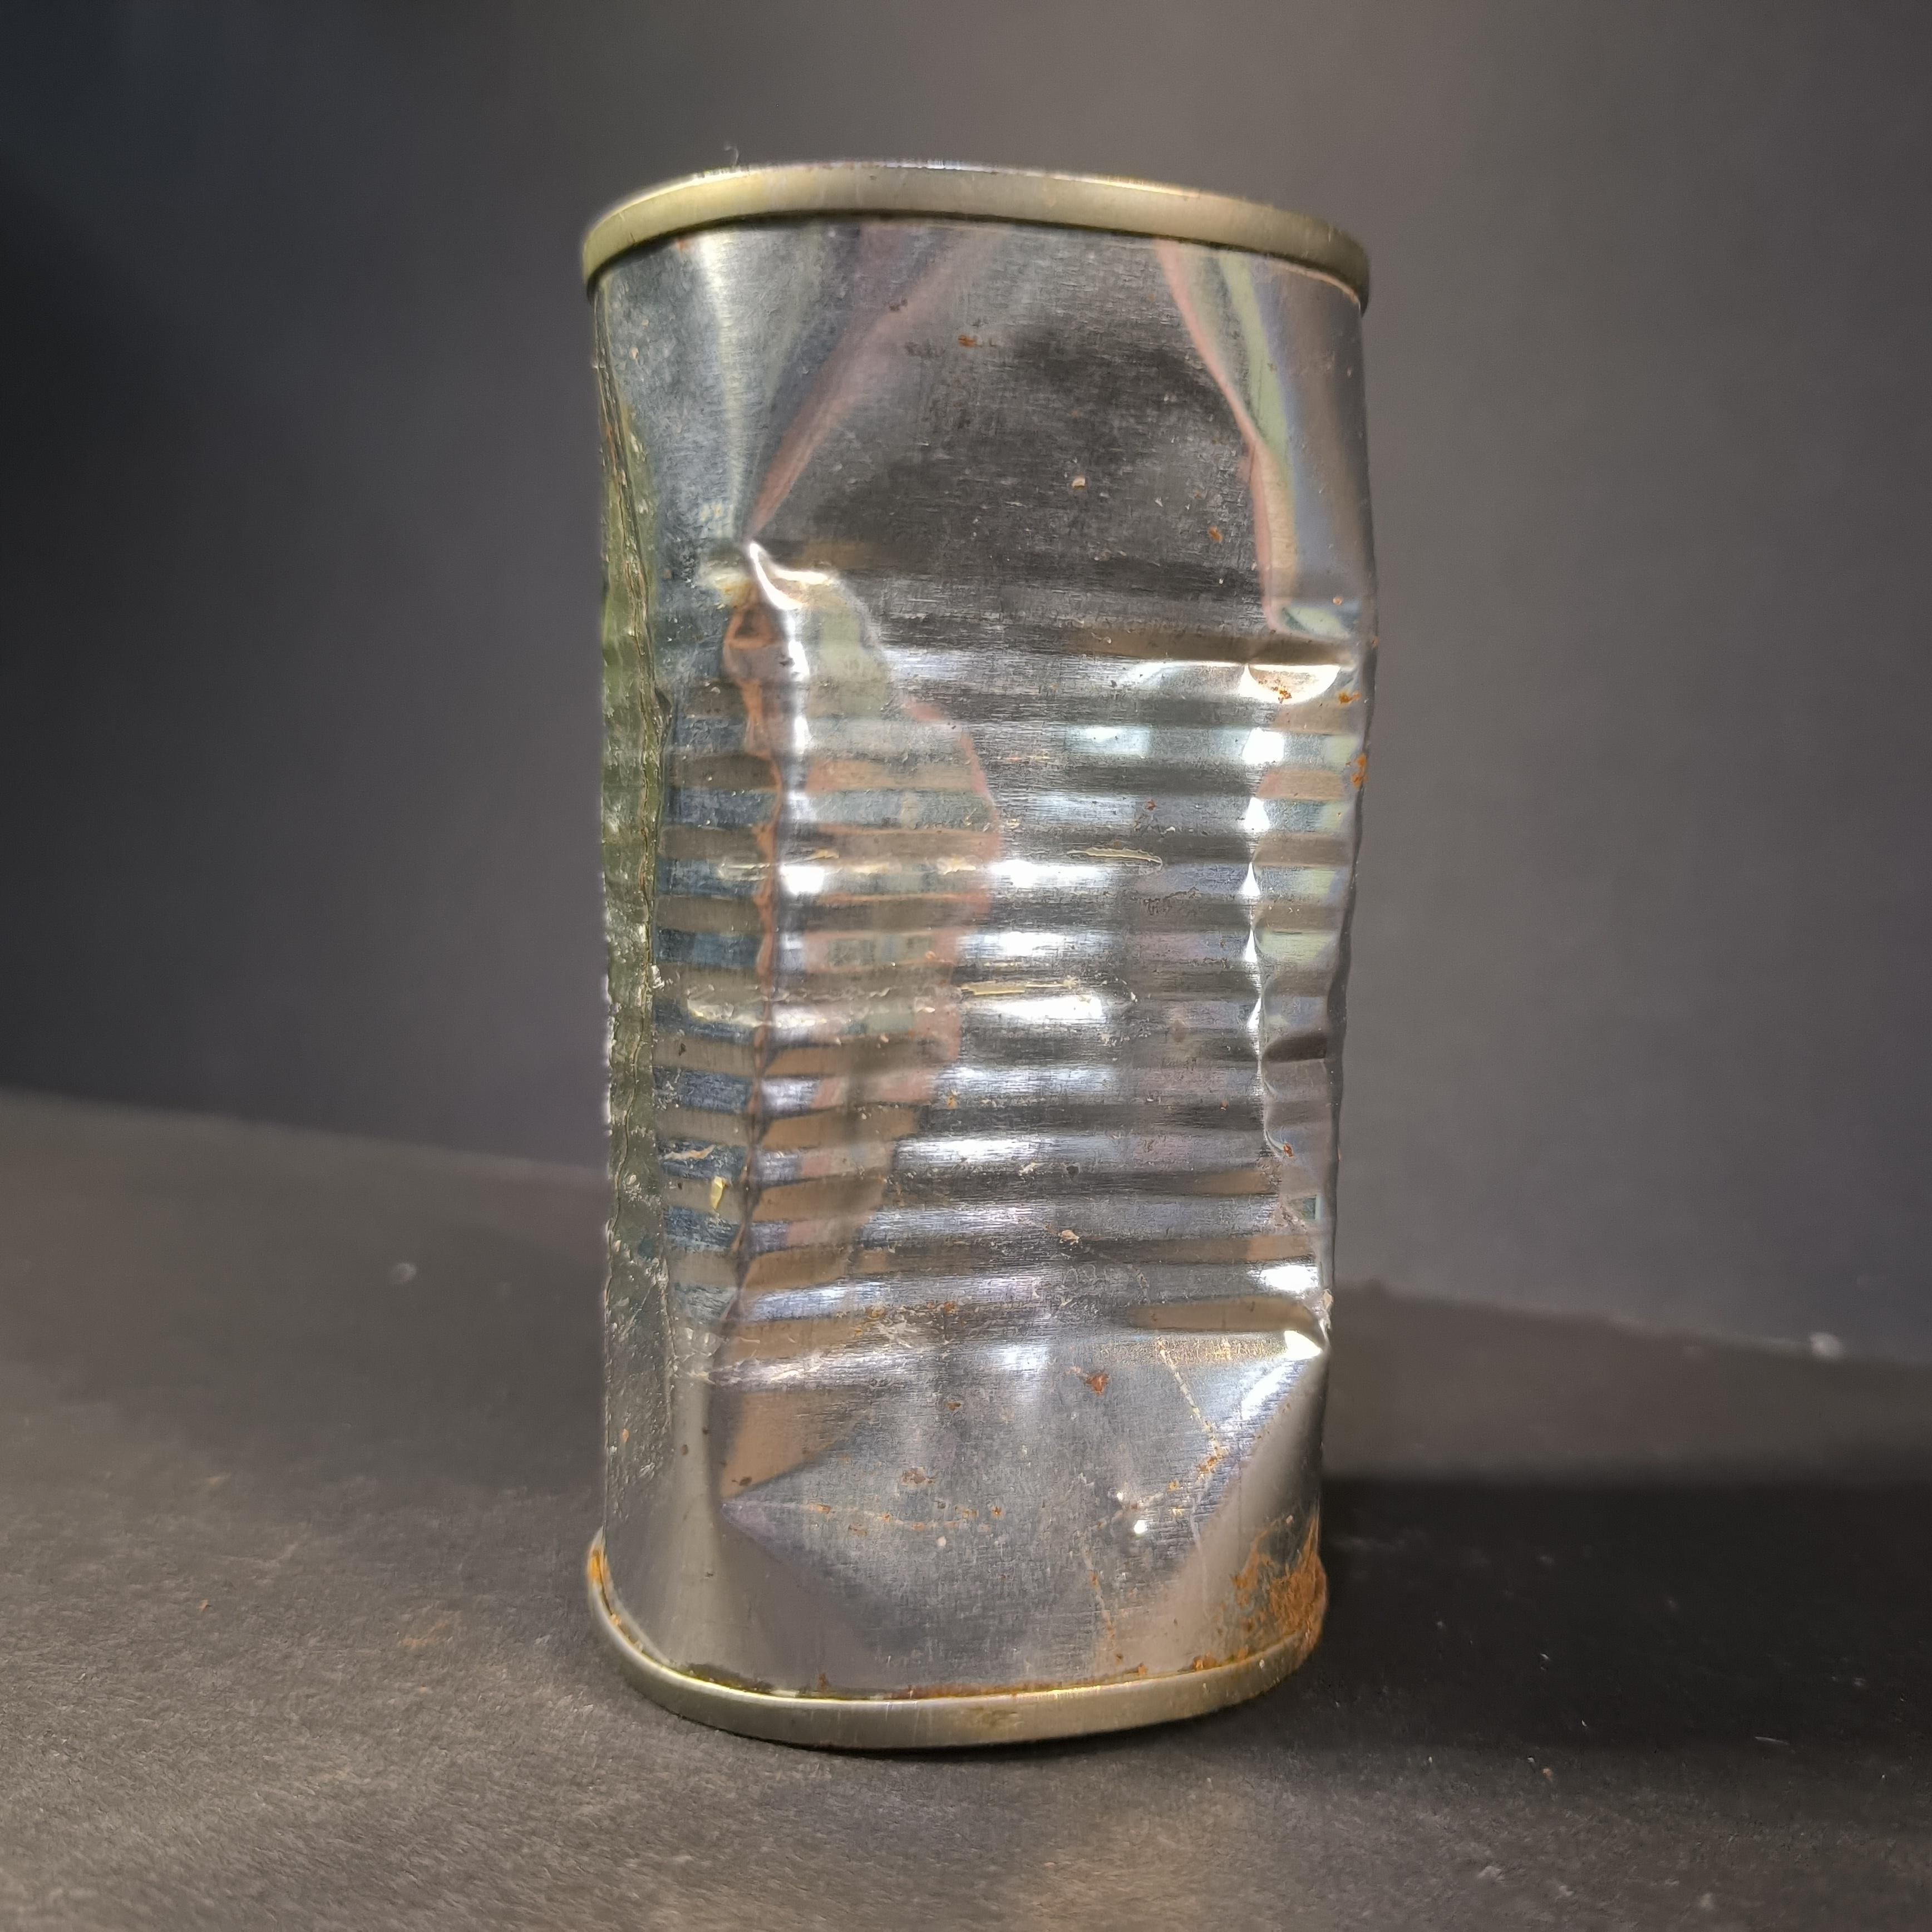Dented: (534, 131, 1389, 1709)
